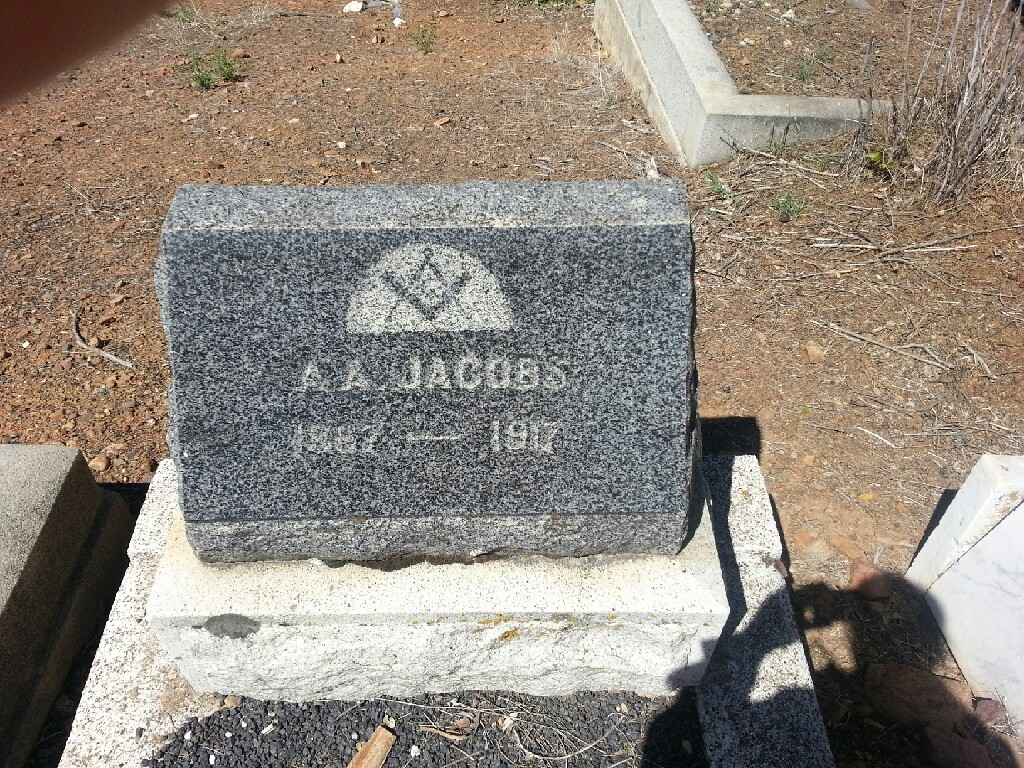upright: (161, 165, 711, 689)
